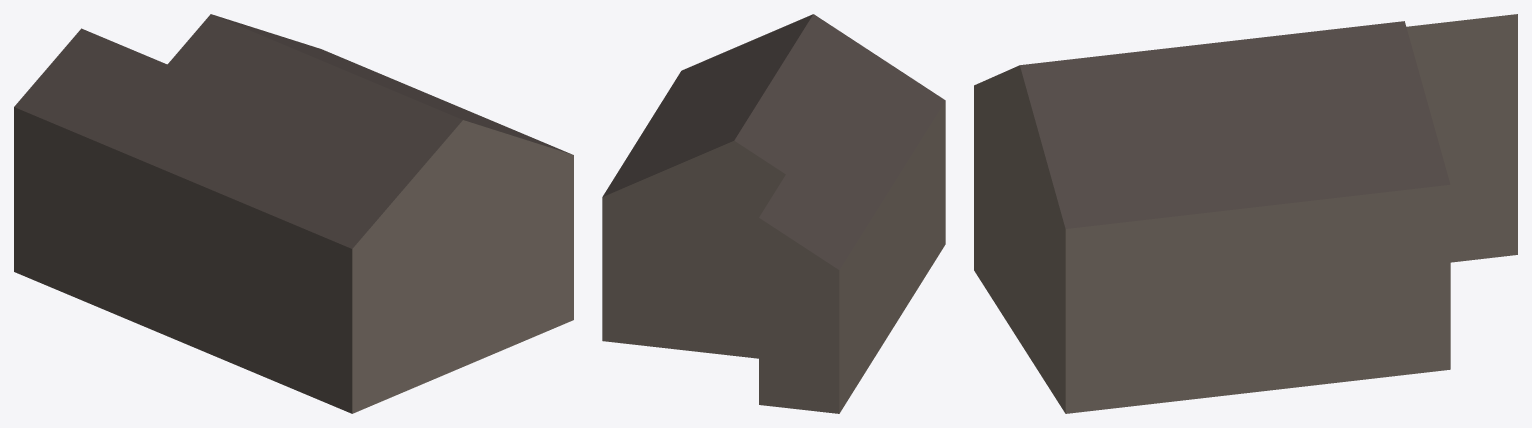
3 views of the same model, side by side, from view 1: azimuth 30°, elevation 25°; view 2: azimuth 150°, elevation 25°; view 3: azimuth 270°, elevation 25° (orthographic). The views are drawn at different scales.
Parts seen in each view (by area): view 1: HP-w1200785656; view 2: HP-w1200785656; view 3: HP-w1200785656.
Boxes of the visible parts, x1,y1,x2,y2 form: HP-w1200785656: (14,14,573,413); HP-w1200785656: (602,14,945,413); HP-w1200785656: (974,14,1517,413).
Bounding box in the file's own units: 14.11 × 8.99 × 16.
